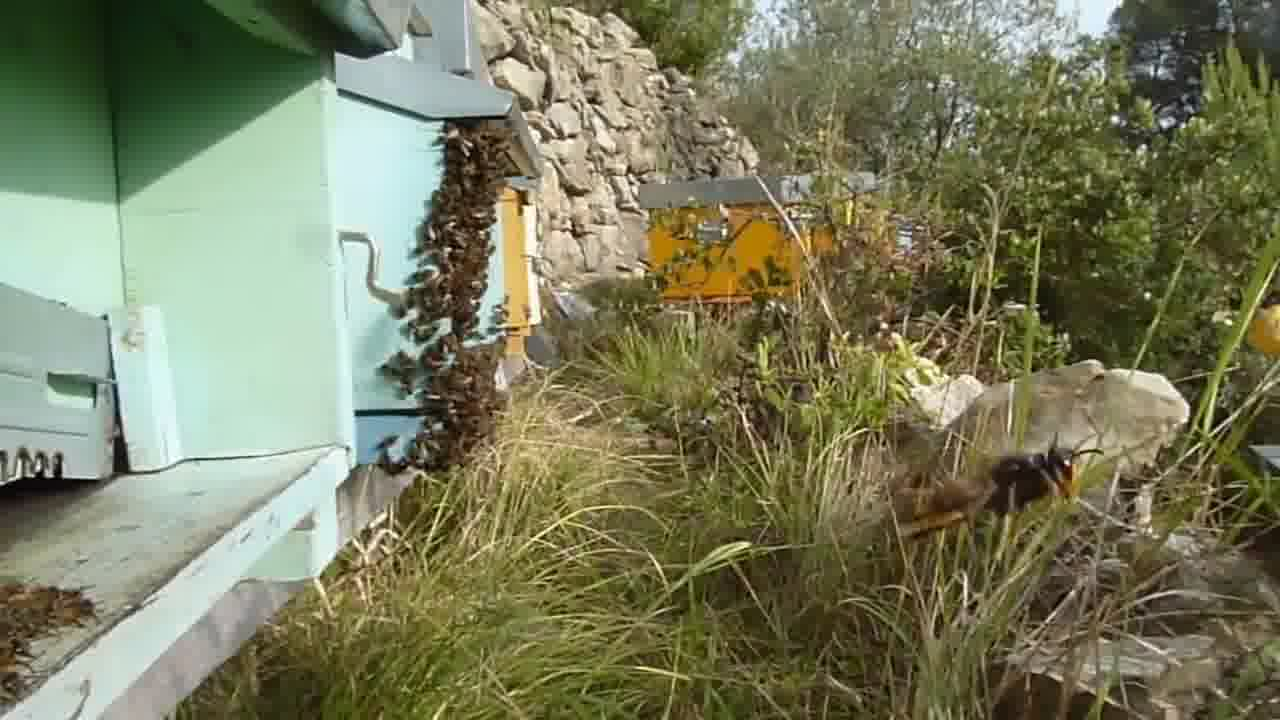bee: (398, 327, 496, 453), (406, 221, 497, 319), (426, 127, 517, 221)
hornet: (901, 431, 1099, 541)
